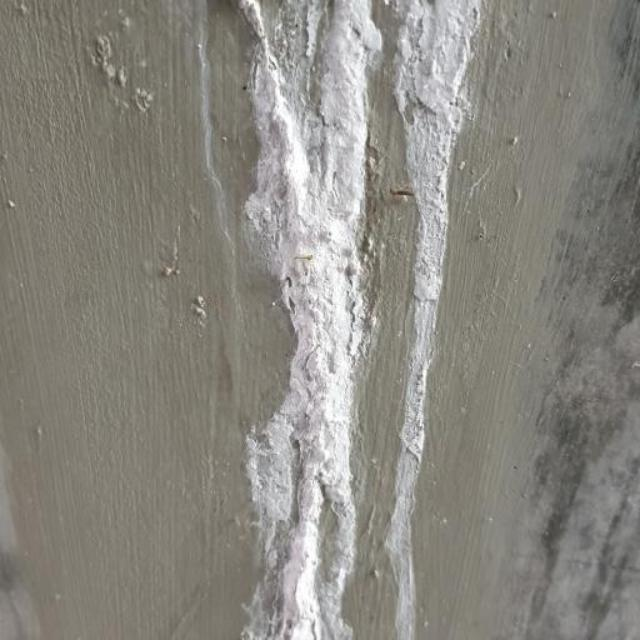D01: (242, 2, 373, 639), (386, 2, 481, 639)
